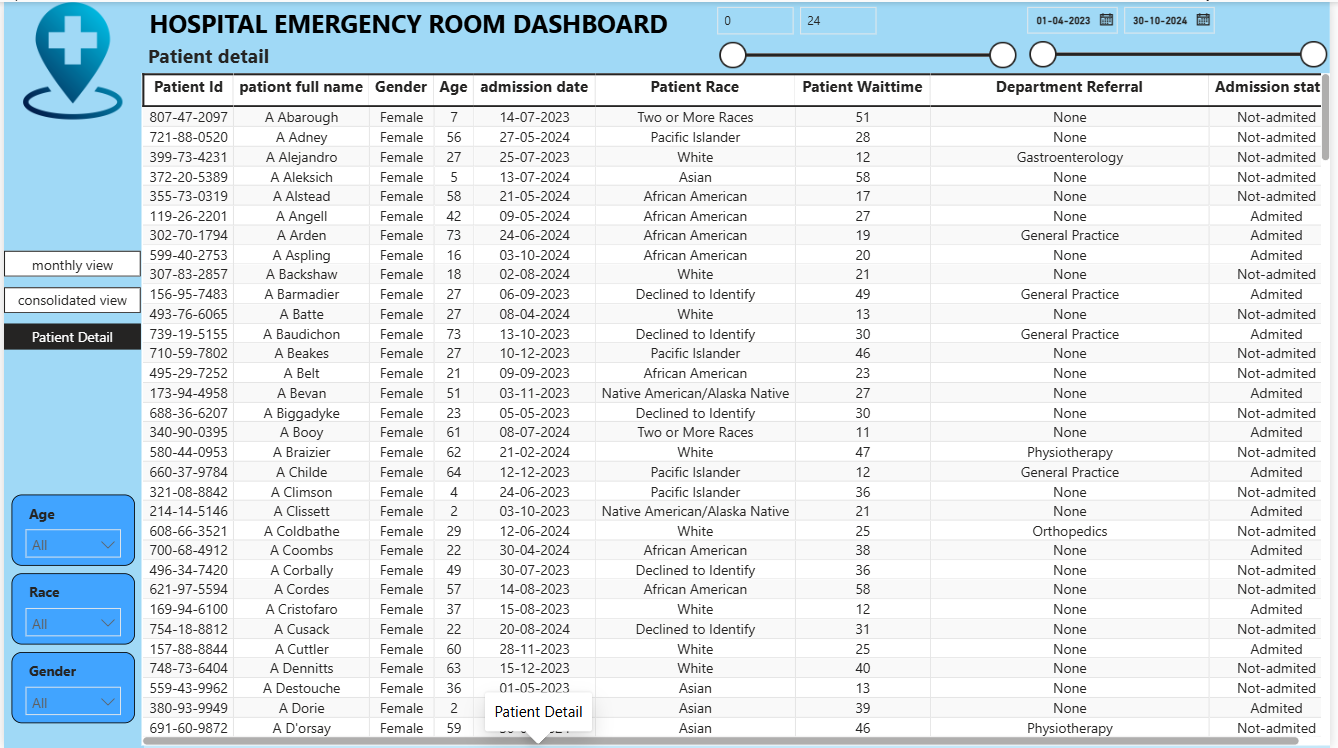

What the dashboard file says about the page in this screenshot:
{"tool":"powerbi","page":{"name":"Patient Detail","canvas":[1280,720],"ordinal":2},"visuals":[{"type":"shape","box":[134.5,0,1145.8,69.7],"z":0},{"type":"shape","box":[0,0,135.1,720.2],"z":1000},{"type":"textbox","box":[135,0,533.8,37.5],"z":2000},{"type":"textbox","box":[134.5,34.2,204.2,35.5],"z":3000},{"type":"image","box":[0,0,132.5,113.8],"z":4000},{"type":"slicer","fields":{"Values":["calendar.Date"]},"box":[979.5,0,300.8,70.9],"z":5000},{"type":"tableEx","fields":{"Values":["Hospital ER_Data.Patient Id","Hospital ER_Data.pationt full name","Hospital ER_Data.Patient Gender","Sum(Hospital ER_Data.Patient Age)","Hospital ER_Data.admission date","Hospital ER_Data.Patient Race","Hospital ER_Data.Patient Waittime","Hospital ER_Data.Department Referral","Hospital ER_Data.Patient Admission status"]},"box":[132.5,68.8,1147.5,648.8],"z":6000},{"type":"slicer","fields":{"Values":["Hospital ER_Data.Admission hour"]},"box":[680,0,300,71.2],"z":7000},{"type":"pageNavigator","box":[0,240,132.7,97.7],"z":7001},{"type":"slicer","fields":{"Values":["Hospital ER_Data.Patient Gender"]},"box":[7.2,627.3,119.4,68.8],"z":7002},{"type":"slicer","fields":{"Values":["Hospital ER_Data.Patient Race"]},"box":[7.2,551.3,119.4,68.8],"z":7003},{"type":"slicer","fields":{"Values":["Hospital ER_Data.Patient Age"]},"box":[7.2,475.3,119.4,68.8],"z":7004}]}

Visuals, with their boxes on the page's 1280x720 design canvas (x1, y1, x2, y2). These are canvas units, not pixel positions in the 1338x748 screenshot, which may show the page scaled, cropped or inside an application window:
shape: bbox(134, 0, 1280, 70)
shape: bbox(0, 0, 135, 720)
textbox: bbox(135, 0, 669, 38)
textbox: bbox(134, 34, 339, 70)
image: bbox(0, 0, 132, 114)
slicer - calendar.Date: bbox(980, 0, 1280, 71)
tableEx - Hospital ER_Data.Patient Id x Hospital ER_Data.pationt full name: bbox(132, 69, 1280, 718)
slicer - Hospital ER_Data.Admission hour: bbox(680, 0, 980, 71)
pageNavigator: bbox(0, 240, 133, 338)
slicer - Hospital ER_Data.Patient Gender: bbox(7, 627, 127, 696)
slicer - Hospital ER_Data.Patient Race: bbox(7, 551, 127, 620)
slicer - Hospital ER_Data.Patient Age: bbox(7, 475, 127, 544)
